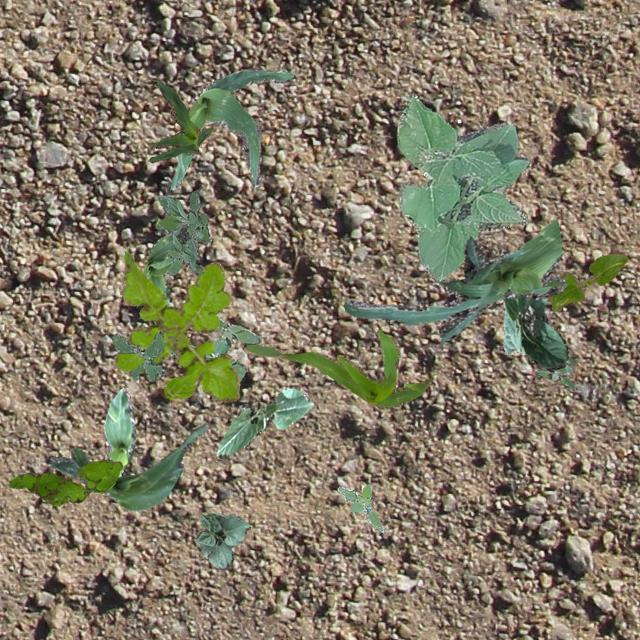crop: (342, 218, 566, 342), (396, 94, 528, 280), (242, 328, 430, 406), (170, 68, 292, 188), (44, 422, 206, 510), (142, 230, 210, 354), (216, 388, 312, 458), (147, 77, 210, 162), (502, 290, 568, 368), (550, 252, 626, 310), (194, 512, 250, 568), (102, 386, 136, 476)
weed: (114, 250, 238, 402), (8, 458, 122, 504), (154, 190, 208, 274), (203, 316, 260, 379), (110, 330, 163, 380), (336, 484, 384, 532), (534, 356, 576, 389)
